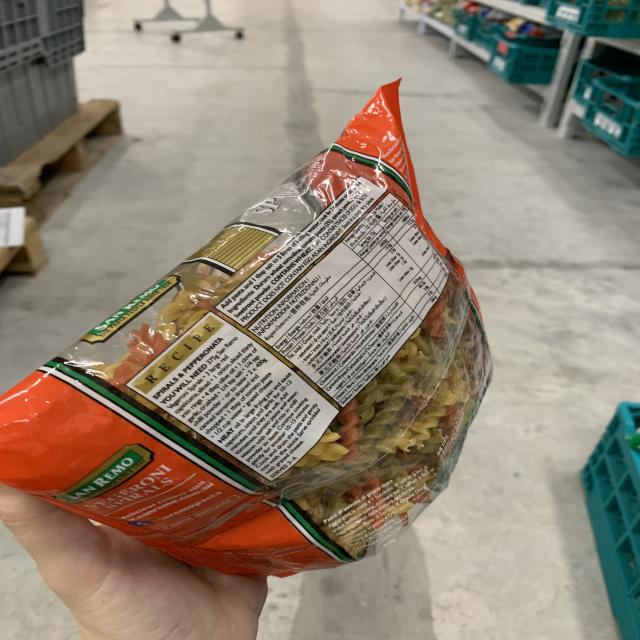object_name: (16, 153, 485, 545)
